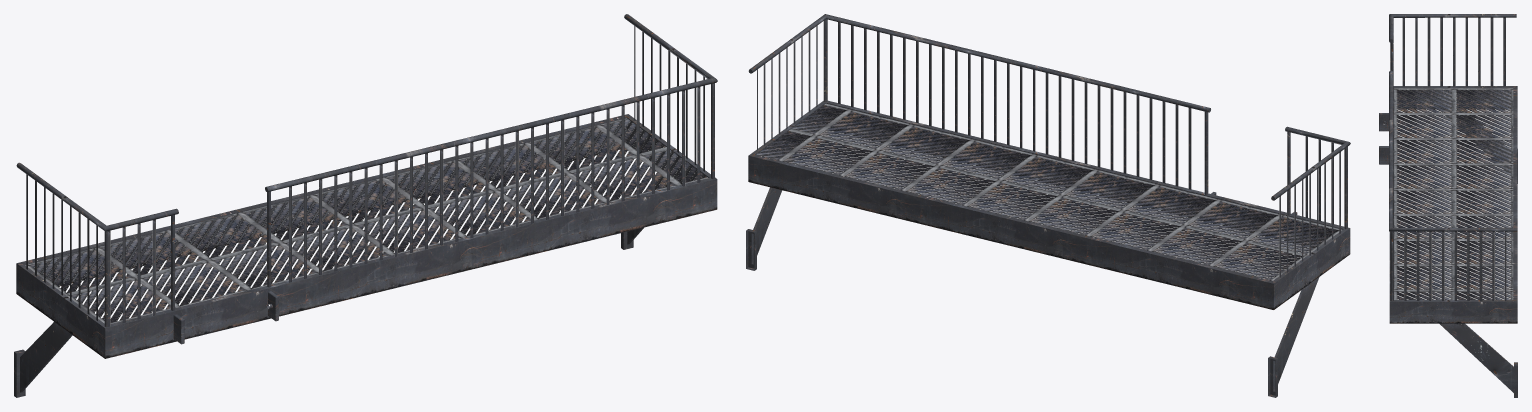
The model's file is BUILDING_exteriorStairwell_02LOD1.FBX.
3 views of the same model, side by side, from view 1: azimuth 30°, elevation 25°; view 2: azimuth 150°, elevation 25°; view 3: azimuth 270°, elevation 25° (orthographic). The views are drawn at different scales.
Parts seen in each view (by area): view 1: BUILDING_exteriorStairwell_02_baseLOD1, BUILDING_exteriorStairwell_02_floorLOD1, BUILDING_exteriorStairwell_02_metalBarsLOD1; view 2: BUILDING_exteriorStairwell_02_floorLOD1, BUILDING_exteriorStairwell_02_baseLOD1, BUILDING_exteriorStairwell_02_metalBarsLOD1; view 3: BUILDING_exteriorStairwell_02_floorLOD1, BUILDING_exteriorStairwell_02_baseLOD1, BUILDING_exteriorStairwell_02_metalBarsLOD1.
Part boxes in pixels (bbox=[...]): BUILDING_exteriorStairwell_02_baseLOD1: bbox=[14, 14, 717, 397]; BUILDING_exteriorStairwell_02_floorLOD1: bbox=[25, 118, 707, 323]; BUILDING_exteriorStairwell_02_metalBarsLOD1: bbox=[26, 26, 713, 326]; BUILDING_exteriorStairwell_02_floorLOD1: bbox=[756, 103, 1342, 280]; BUILDING_exteriorStairwell_02_baseLOD1: bbox=[746, 14, 1350, 397]; BUILDING_exteriorStairwell_02_metalBarsLOD1: bbox=[757, 20, 1344, 277]; BUILDING_exteriorStairwell_02_floorLOD1: bbox=[1394, 88, 1513, 299]; BUILDING_exteriorStairwell_02_baseLOD1: bbox=[1379, 14, 1517, 397]; BUILDING_exteriorStairwell_02_metalBarsLOD1: bbox=[1393, 17, 1506, 300].
Bounding box in the file's own units: 637 × 230 × 172.
Materials: 3 (3 with a texture image).
